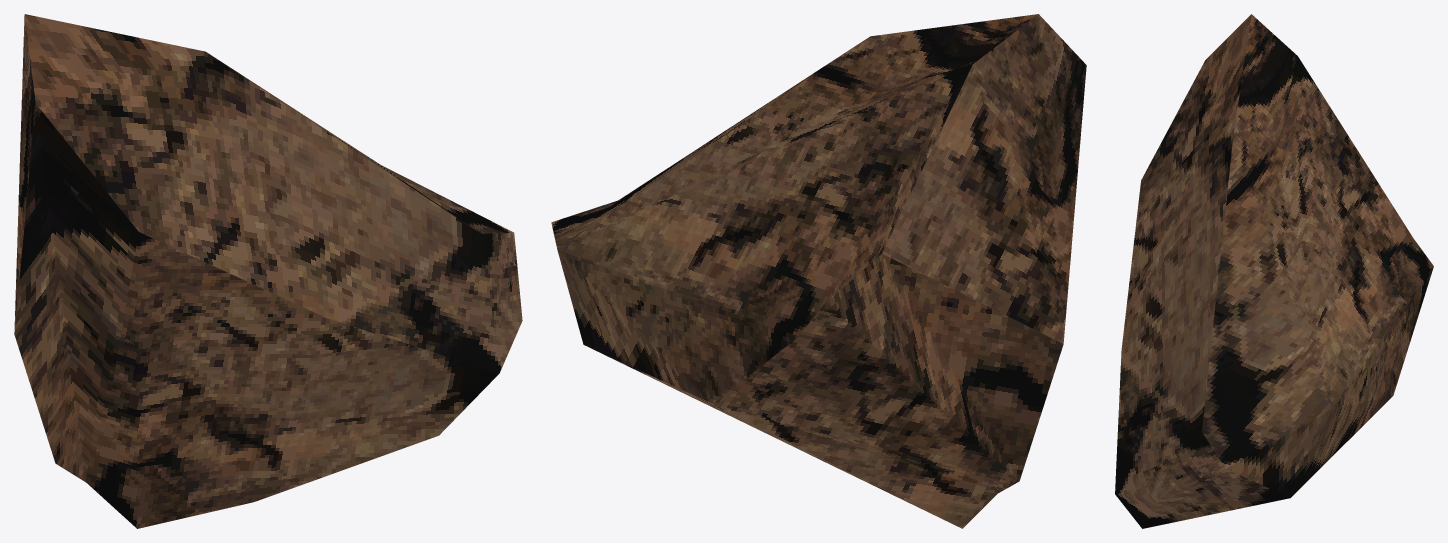
File: stage-gran-p4-0.glb
3 renders of one model, left to right at view 1: azimuth 30°, elevation 25°; view 2: azimuth 150°, elevation 25°; view 3: azimuth 270°, elevation 25°, orthographic. The views are drawn at different scales.
Size of the model in its own units: 24.24 by 24.63 by 16.61.
1 material, 1 textured.
